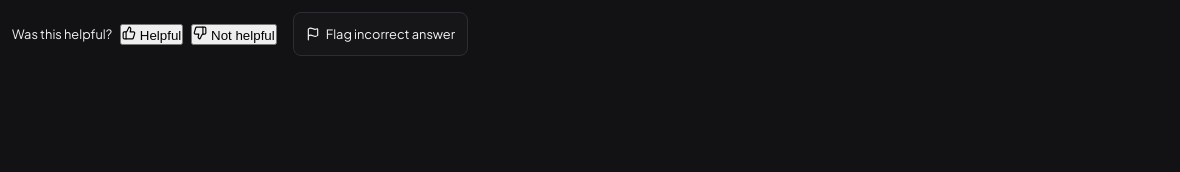
Test: Feedback readback and safe retry › never resends an ambiguous POST failure (408)
Click the button "Helpful" at (152, 34), box x1=120 y1=24 x2=183 y2=44
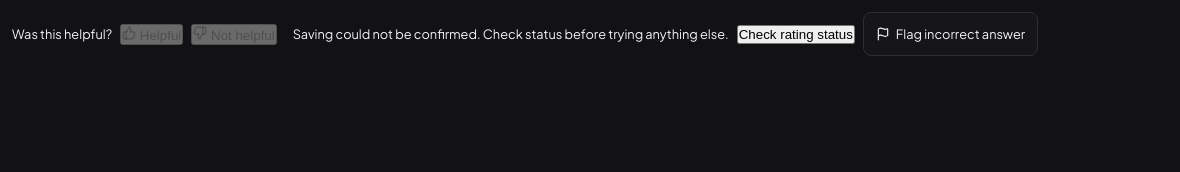
Check: the message "Saving could not be confirmed. Check status before trying anything else." is shown, box x1=293 y1=26 x2=729 y2=42
Check: the button "Helpful" is disabled, box x1=120 y1=24 x2=183 y2=44
Click the button "Check rating status" at (796, 34), box x1=737 y1=24 x2=855 y2=44
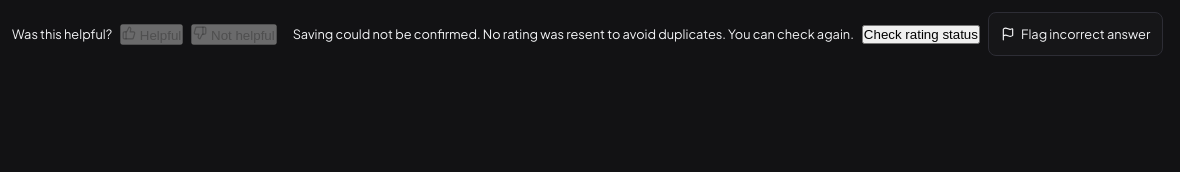
Check: the message shows "No rating was resent", box x1=293 y1=26 x2=854 y2=42
Click the button "Check rating status" at (921, 34), box x1=862 y1=24 x2=980 y2=44
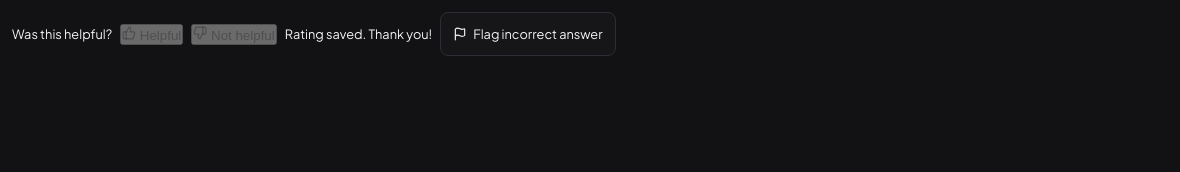
Check: the text "Rating saved. Thank you!" is shown, box x1=285 y1=26 x2=432 y2=42
